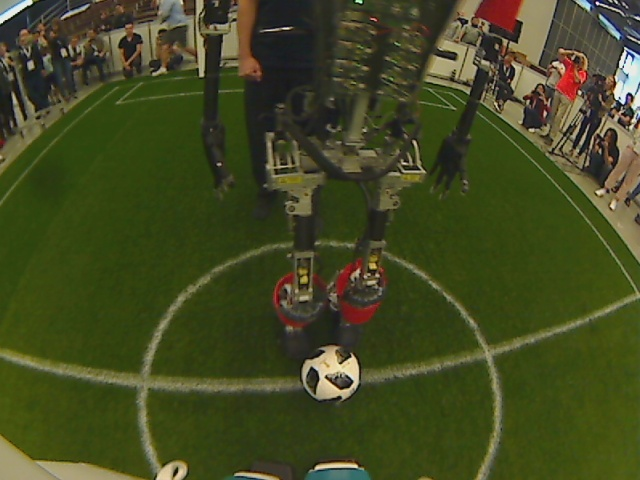ball: (298, 342, 363, 404)
